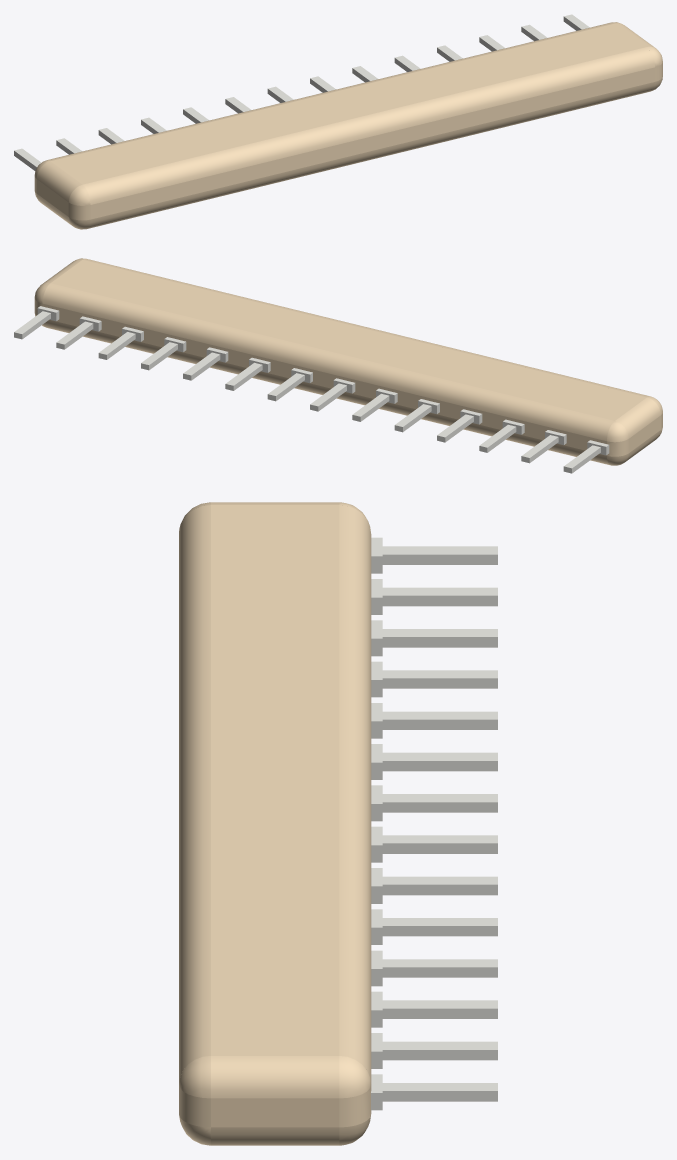
File: R_Array_SIP14.glb
3 renders of one model, top to bottom at view 1: azimuth 30°, elevation 25°; view 2: azimuth 150°, elevation 25°; view 3: azimuth 270°, elevation 25°, orthographic. The views are drawn at different scales.
Visible parts, largest first — view 1: Shape_IndexedFaceSet.079, Shape_IndexedFaceSet.017, Shape_IndexedFaceSet.007, Shape_IndexedFaceSet.003, Shape_IndexedFaceSet.025, Shape_IndexedFaceSet.019, Shape_IndexedFaceSet.010, Shape_IndexedFaceSet.077, Shape_IndexedFaceSet.015; view 2: Shape_IndexedFaceSet.079, Shape_IndexedFaceSet.025, Shape_IndexedFaceSet.014, Shape_IndexedFaceSet.006, Shape_IndexedFaceSet.017, Shape_IndexedFaceSet.019, Shape_IndexedFaceSet.010, Shape_IndexedFaceSet.081; view 3: Shape_IndexedFaceSet.079, Shape_IndexedFaceSet.025, Shape_IndexedFaceSet.017, Shape_IndexedFaceSet.020, Shape_IndexedFaceSet.012, Shape_IndexedFaceSet.005, Shape_IndexedFaceSet.129, Shape_IndexedFaceSet.145, Shape_IndexedFaceSet.105, Shape_IndexedFaceSet.113, Shape_IndexedFaceSet.117, Shape_IndexedFaceSet.121 (+26 smaller).
Boxes of the visible parts, box(x1,y1,x2,y2) form: Shape_IndexedFaceSet.079: box(51, 23, 646, 184); Shape_IndexedFaceSet.017: box(83, 47, 654, 204); Shape_IndexedFaceSet.007: box(90, 67, 654, 219); Shape_IndexedFaceSet.003: box(87, 82, 654, 228); Shape_IndexedFaceSet.025: box(47, 22, 614, 160); Shape_IndexedFaceSet.019: box(36, 161, 82, 202); Shape_IndexedFaceSet.010: box(36, 179, 68, 216); Shape_IndexedFaceSet.077: box(69, 185, 90, 205); Shape_IndexedFaceSet.015: box(68, 203, 90, 220); Shape_IndexedFaceSet.079: box(51, 260, 646, 420); Shape_IndexedFaceSet.025: box(42, 283, 614, 441); Shape_IndexedFaceSet.014: box(42, 304, 606, 455); Shape_IndexedFaceSet.006: box(43, 320, 609, 464); Shape_IndexedFaceSet.017: box(83, 258, 649, 397); Shape_IndexedFaceSet.019: box(615, 397, 660, 438); Shape_IndexedFaceSet.010: box(628, 415, 660, 452); Shape_IndexedFaceSet.081: box(607, 421, 628, 442); Shape_IndexedFaceSet.079: box(211, 505, 339, 1055); Shape_IndexedFaceSet.025: box(339, 505, 371, 1083); Shape_IndexedFaceSet.017: box(179, 505, 210, 1082); Shape_IndexedFaceSet.020: box(211, 1056, 339, 1098); Shape_IndexedFaceSet.012: box(211, 1098, 339, 1127); Shape_IndexedFaceSet.005: box(211, 1127, 339, 1145); Shape_IndexedFaceSet.129: box(382, 884, 497, 895); Shape_IndexedFaceSet.145: box(382, 595, 497, 606); Shape_IndexedFaceSet.105: box(382, 1091, 497, 1101); Shape_IndexedFaceSet.113: box(382, 843, 497, 853); Shape_IndexedFaceSet.117: box(382, 802, 497, 812); Shape_IndexedFaceSet.121: box(382, 967, 497, 977).
Size of the model in its own units: 14 by 0.988 by 3.27.
